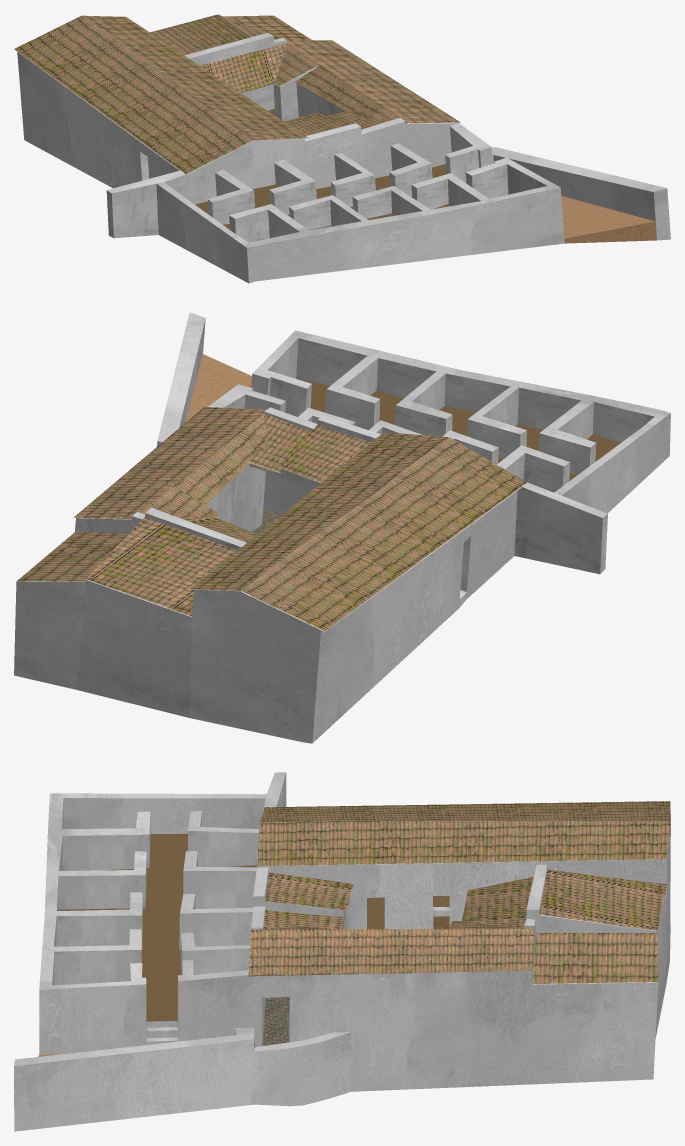
File: sondagem4.glb
3 renders of one model, top to bottom at view 1: azimuth 30°, elevation 25°; view 2: azimuth 150°, elevation 25°; view 3: azimuth 270°, elevation 25°, orthographic. The views are drawn at different scales.
Visible parts, largest first — view 1: Roof; view 2: Roof; view 3: Roof.
Boxes of the visible parts, x1,y1,x2,y2 form: Roof: (14,14,670,283); Roof: (14,312,670,743); Roof: (14,772,670,1131).
Bounding box in the file's own units: 192 × 50.46 × 201.
8 materials, 7 textured.
